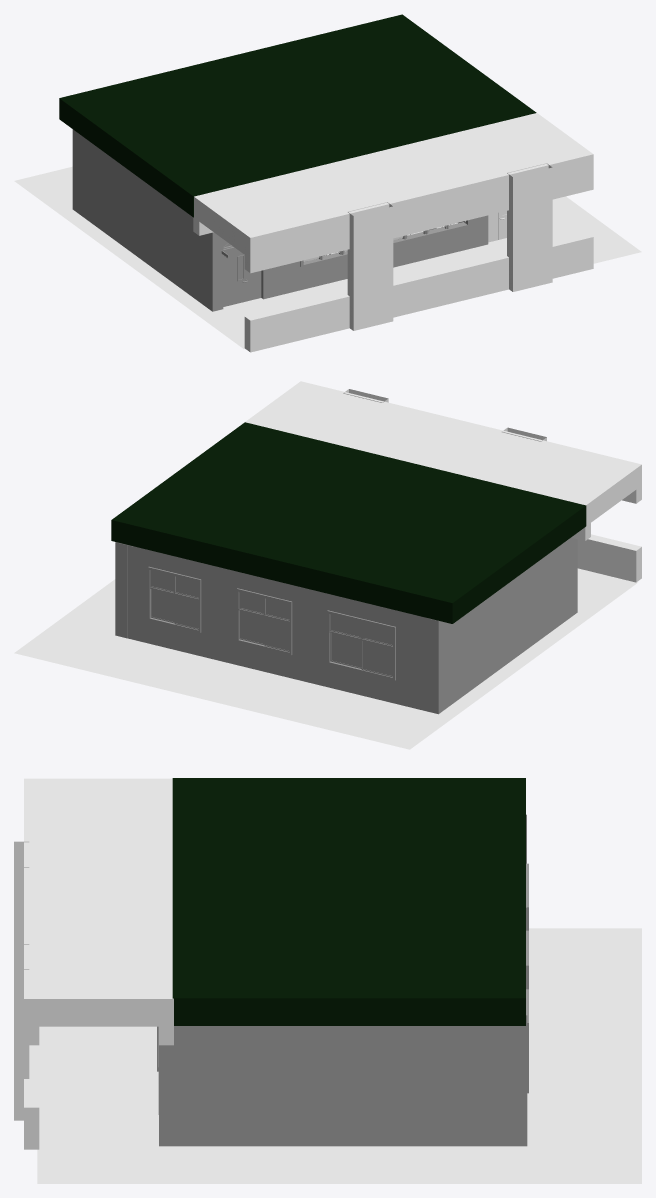
The picture shows the model from 3 angles, top to bottom: view 1: azimuth 30°, elevation 25°; view 2: azimuth 150°, elevation 25°; view 3: azimuth 270°, elevation 25°; orthographic projection. The views are drawn at different scales.
Parts seen in each view (by area): view 1: roof, coridoor_roof, classrom_frount_wall, ground, coridoor_side_wall, building_support1, building_support, classrom_coridoor_wall, big_door, window_pane_frame; view 2: roof, ground, coridoor_roof, classrom_outside_wall, classrom_frount_wall, coridoor_side_wall, window_border1 (×3), window_glass_bottom1 (×3), window_glass_bottom2 (×3), classrom_back_wall; view 3: roof, ground, classrom_back_wall, coridoor_roof, building_support, coridoor_side_wall, building_support1.
Boxes of the visible parts, x1,y1,x2,y2 form: roof: [59, 14, 536, 217]; coridoor_roof: [193, 113, 593, 273]; classrom_frount_wall: [72, 129, 223, 311]; ground: [14, 166, 641, 348]; coridoor_side_wall: [244, 232, 593, 352]; building_support1: [347, 202, 393, 330]; building_support: [507, 163, 552, 291]; classrom_coridoor_wall: [223, 215, 488, 299]; big_door: [223, 251, 247, 306]; window_pane_frame: [300, 219, 470, 266]; roof: [111, 422, 586, 623]; ground: [14, 568, 637, 749]; coridoor_roof: [244, 381, 641, 540]; classrom_outside_wall: [127, 545, 427, 711]; classrom_frount_wall: [427, 537, 577, 714]; coridoor_side_wall: [577, 534, 641, 582]; window_border1 (×3): [148, 566, 395, 680]; window_glass_bottom1 (×3): [175, 595, 392, 675]; window_glass_bottom2 (×3): [151, 589, 361, 667]; classrom_back_wall: [115, 542, 133, 638]; roof: [172, 778, 525, 1025]; ground: [37, 928, 641, 1183]; classrom_back_wall: [159, 1015, 527, 1146]; coridoor_roof: [24, 778, 173, 1045]; building_support: [14, 944, 29, 1120]; coridoor_side_wall: [24, 1045, 39, 1149]; building_support1: [14, 841, 29, 943].
Size of the model in its own units: 57.82 by 16.04 by 60.05.
